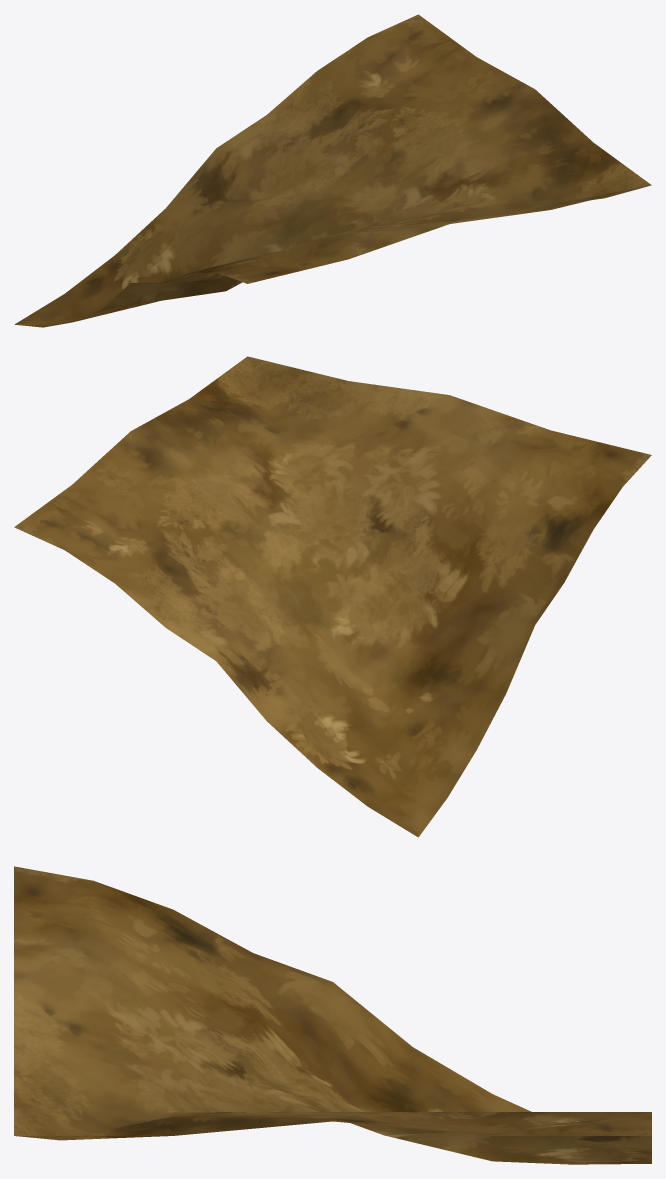
Rendered from Slope_Incline_002.fbx.
3 renders of one model, top to bottom at view 1: azimuth 30°, elevation 25°; view 2: azimuth 150°, elevation 25°; view 3: azimuth 270°, elevation 25°, orthographic. The views are drawn at different scales.
Parts seen in each view (by area): view 1: Slope_Incline_002; view 2: Slope_Incline_002; view 3: Slope_Incline_002.
Part boxes in pixels (x1,y1,x2,y2): Slope_Incline_002: (14, 14, 651, 327); Slope_Incline_002: (14, 356, 651, 837); Slope_Incline_002: (14, 866, 651, 1164).
Size of the model in its own units: 10 by 5.25 by 10.
Materials: 1 (1 with a texture image).
